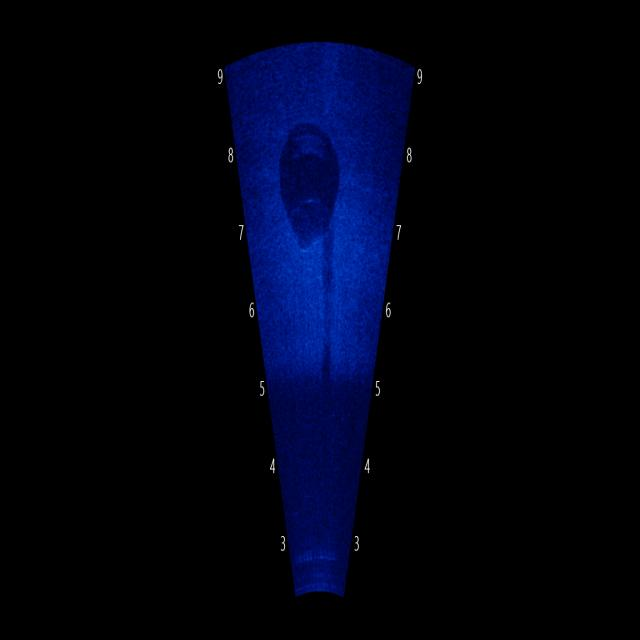circle: (269, 94, 346, 254)
